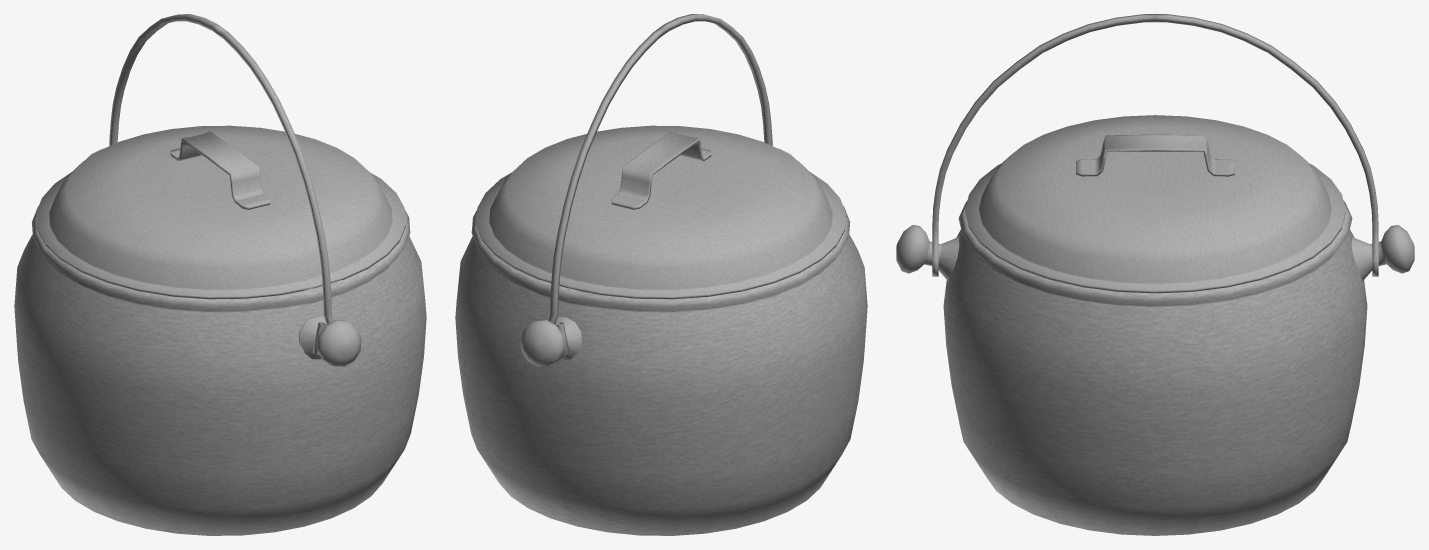
File: periuk_gltf.gltf
The picture shows the model from 3 angles, left to right: view 1: azimuth 30°, elevation 25°; view 2: azimuth 150°, elevation 25°; view 3: azimuth 270°, elevation 25°; orthographic projection. The views are drawn at different scales.
Visible parts, largest first — view 1: Cylinder, Plane, Cube, Cylinder.002; view 2: Cylinder, Plane, Cube, Cylinder.002; view 3: Cylinder, Plane, Cube, Cylinder.002.
Part boxes in pixels (x1,y1,x2,y2): Cylinder: (14, 206, 426, 535); Plane: (36, 125, 405, 299); Cube: (109, 14, 332, 358); Cylinder.002: (87, 148, 361, 366); Cylinder: (455, 206, 867, 535); Plane: (476, 125, 845, 299); Cube: (549, 14, 772, 358); Cylinder.002: (520, 148, 794, 366); Cylinder: (943, 200, 1367, 535); Plane: (965, 115, 1345, 293); Cube: (932, 14, 1378, 276); Cylinder.002: (896, 225, 1414, 280).
Size of the model in its own units: 3.96 by 4.64 by 4.84.
Materials: 1 (1 with a texture image).
